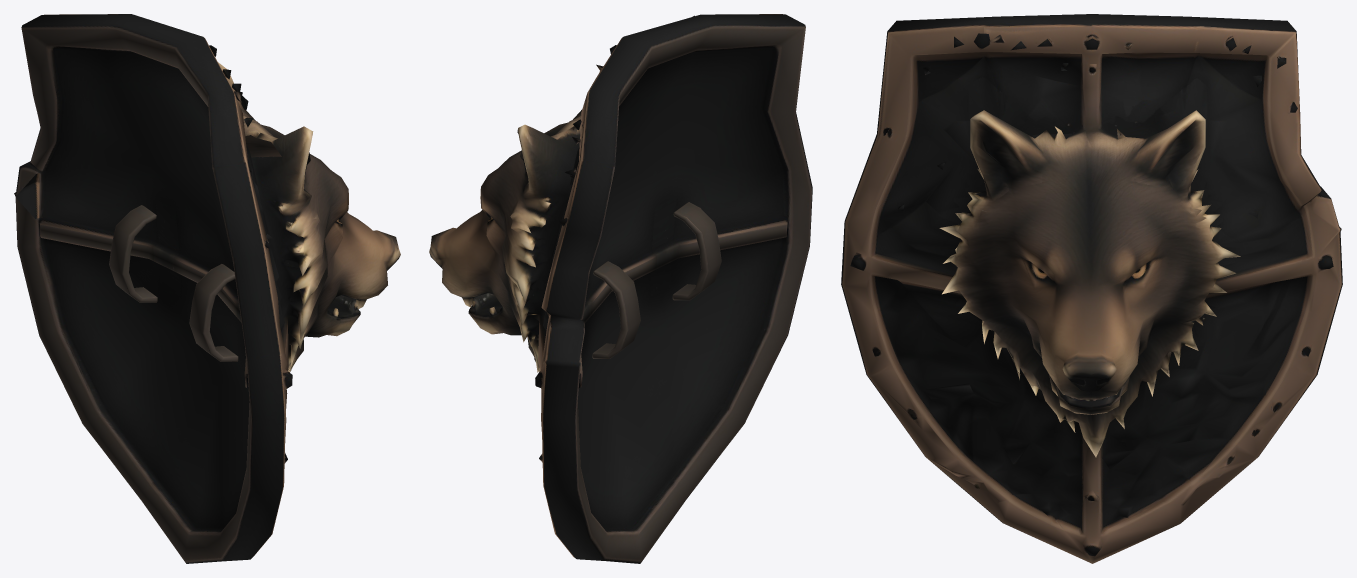
File: wolfhide_targe.glb
3 views of the same model, side by side, from view 1: azimuth 30°, elevation 25°; view 2: azimuth 150°, elevation 25°; view 3: azimuth 270°, elevation 25° (orthographic).
Visible parts, largest first — view 1: base_model_path; view 2: base_model_path; view 3: base_model_path.
Boxes of the visible parts, left/top/right/bottom form: base_model_path: left=14, top=14, right=400, bottom=563; base_model_path: left=429, top=14, right=812, bottom=563; base_model_path: left=841, top=14, right=1342, bottom=563.
Bounding box in the file's own units: 0.5534 × 0.9992 × 0.8506.
1 material, 1 textured.
